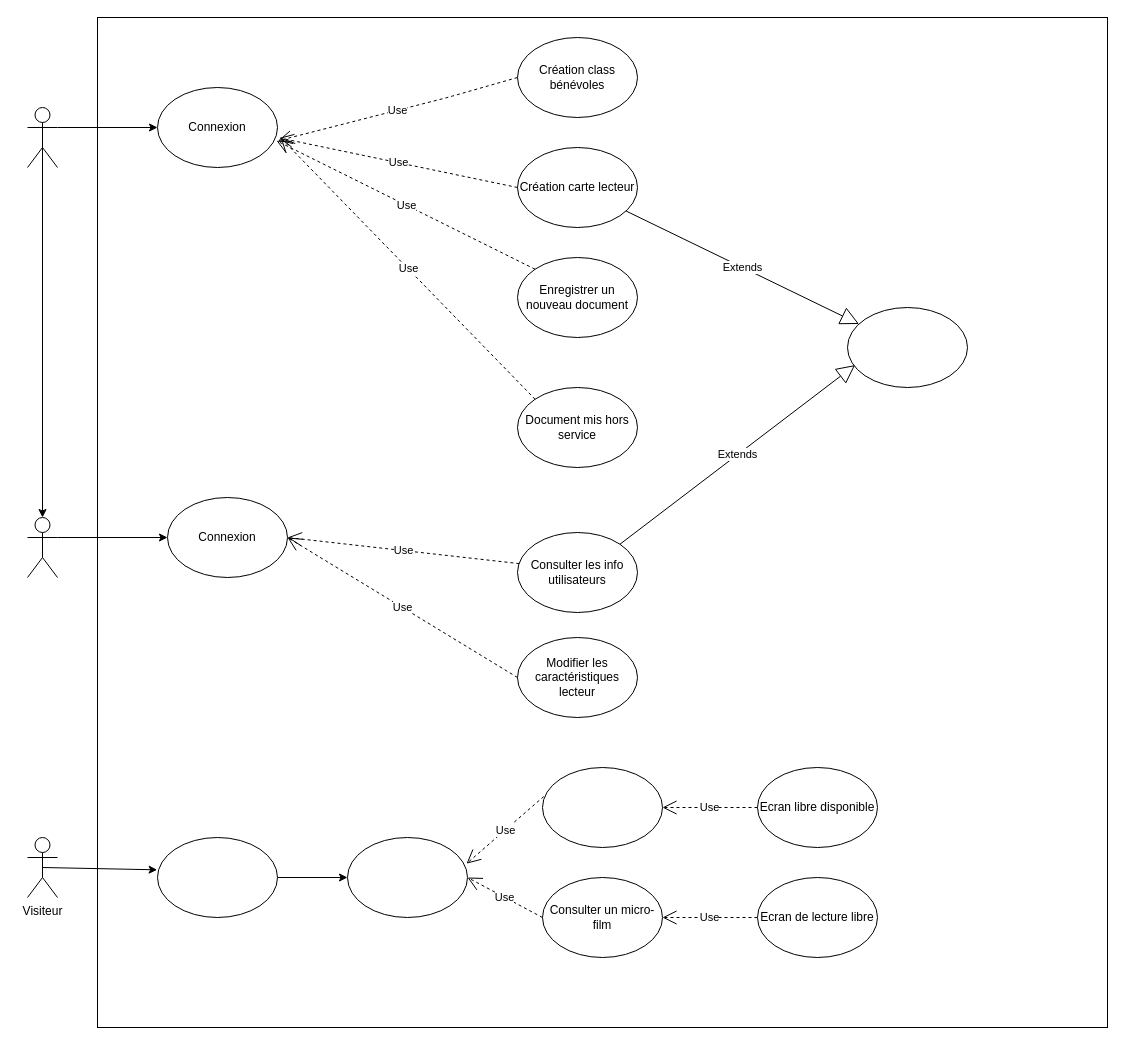
Some shapes in this 1125 by 1045 pixel diagram are drawn without their labels. The shapes that lost their labels are listed below. From the top down, each one's box as (x1, y1, x2, y2) in pixels, then its label:
(26, 106, 58, 168): Employé
(846, 306, 968, 388): Enregistrer un Emprunt
(26, 516, 58, 578): Bénévole
(542, 766, 662, 848): Consulter un Cd-Rom sur place
(156, 836, 278, 918): Consulter les documents à disposition
(346, 836, 468, 918): Document disponible
